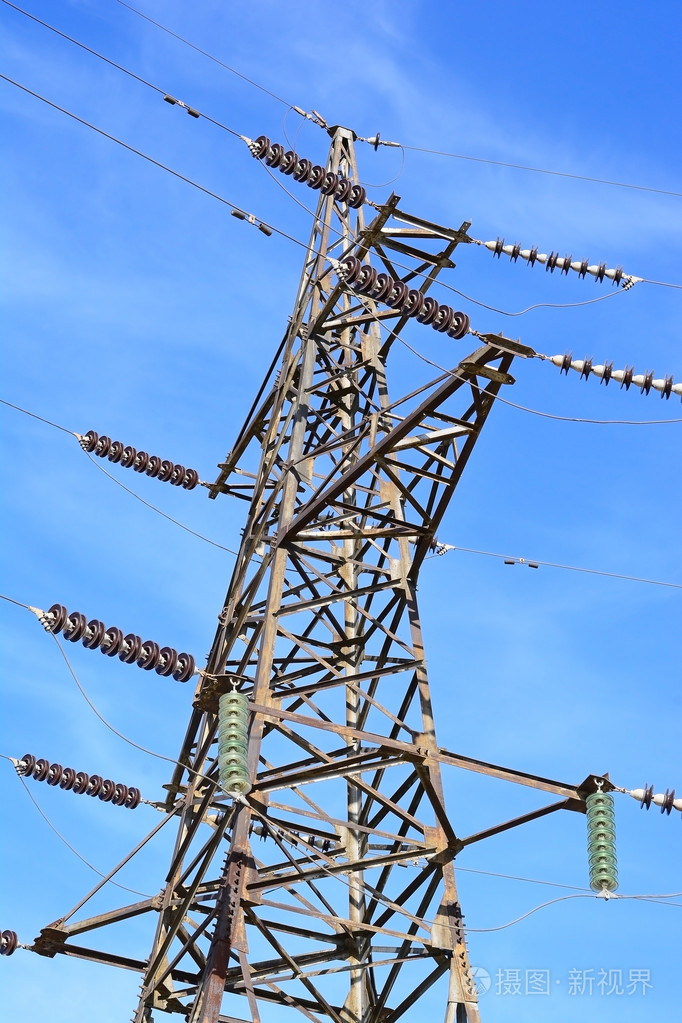insulator: (41, 604, 193, 684), (335, 256, 471, 338), (250, 133, 366, 205), (490, 234, 624, 289), (80, 429, 200, 486), (16, 757, 144, 810), (556, 351, 674, 398), (583, 789, 625, 897), (215, 689, 254, 799), (637, 784, 678, 821)
